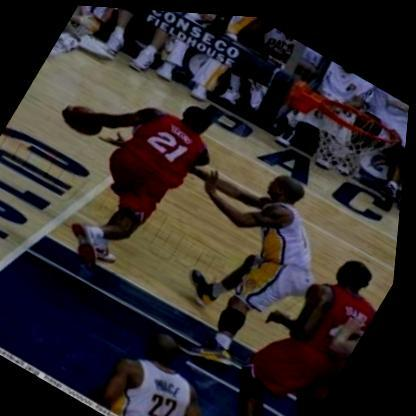basketball: (55, 91, 117, 148)
rim: (299, 81, 411, 182)
